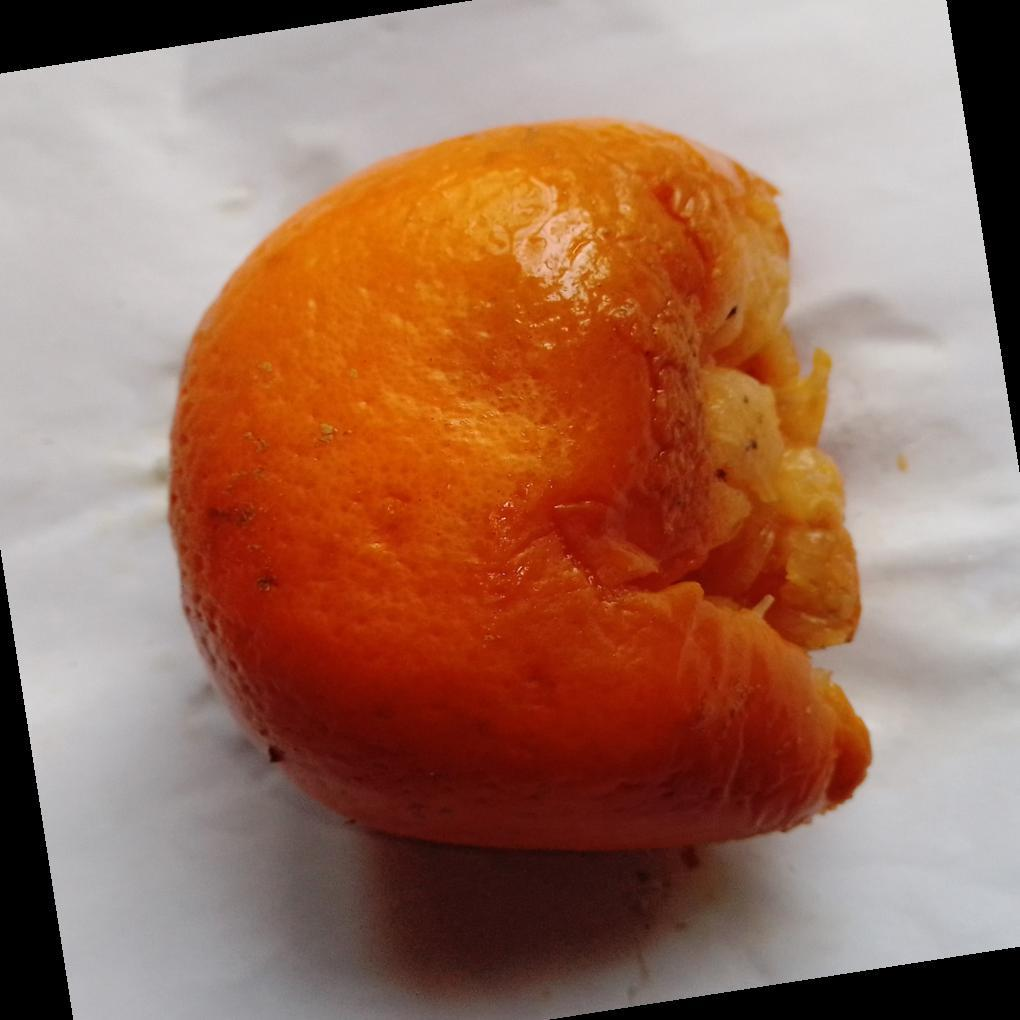FreshOrange: (166, 120, 874, 858)
